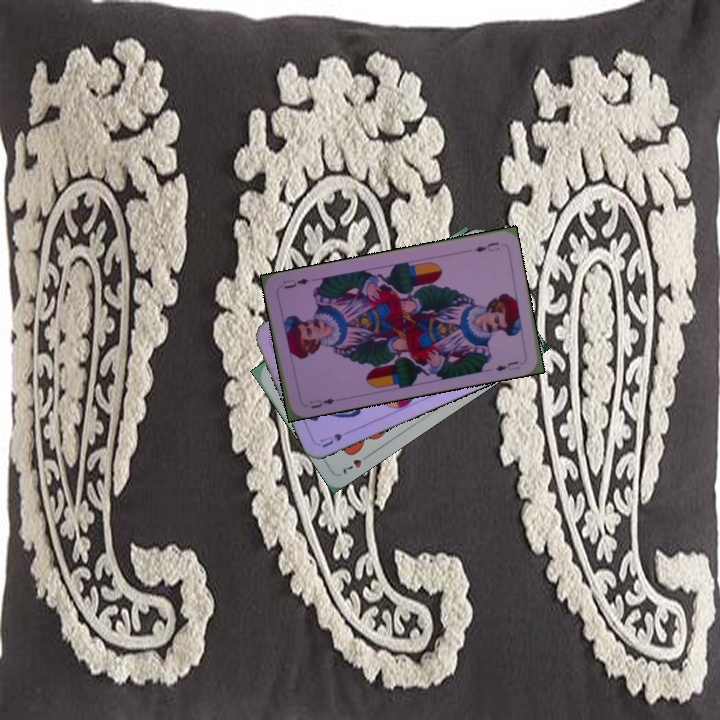EU: (305, 394, 337, 411), (470, 238, 502, 255)
H7: (339, 449, 373, 477)
SU: (316, 425, 355, 450)
